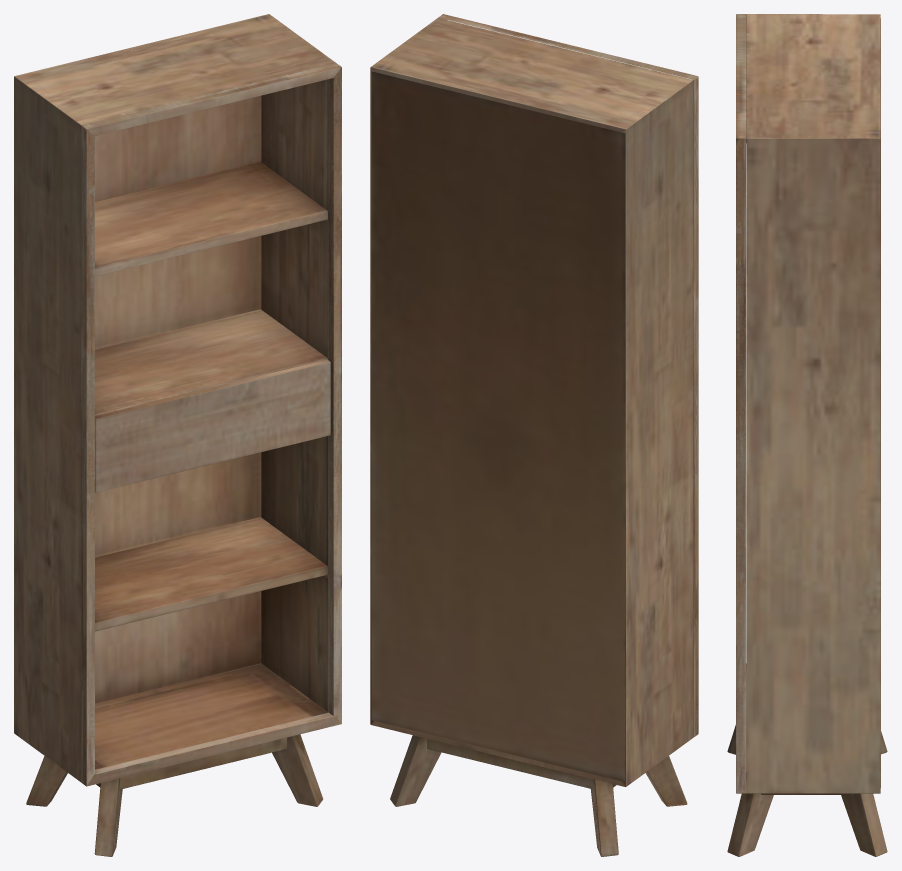
Rendered from B07HSGBB2D.glb.
3 renders of one model, left to right at view 1: azimuth 30°, elevation 25°; view 2: azimuth 150°, elevation 25°; view 3: azimuth 270°, elevation 25°, orthographic.
Parts seen in each view (by area): view 1: RootNode; view 2: RootNode; view 3: RootNode.
Boxes of the visible parts, <box> form: RootNode: <box>14,14,341,856</box>; RootNode: <box>370,14,698,856</box>; RootNode: <box>727,14,887,856</box>.
Size of the model in its own units: 0.4915 by 1.34 by 0.2673.
Materials: 1 (1 with a texture image).
